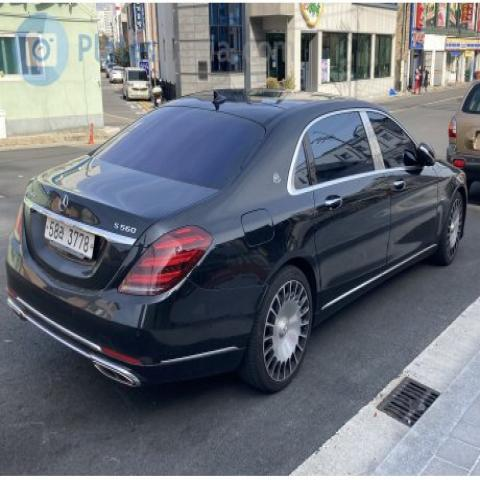LP: (38, 200, 99, 270)
